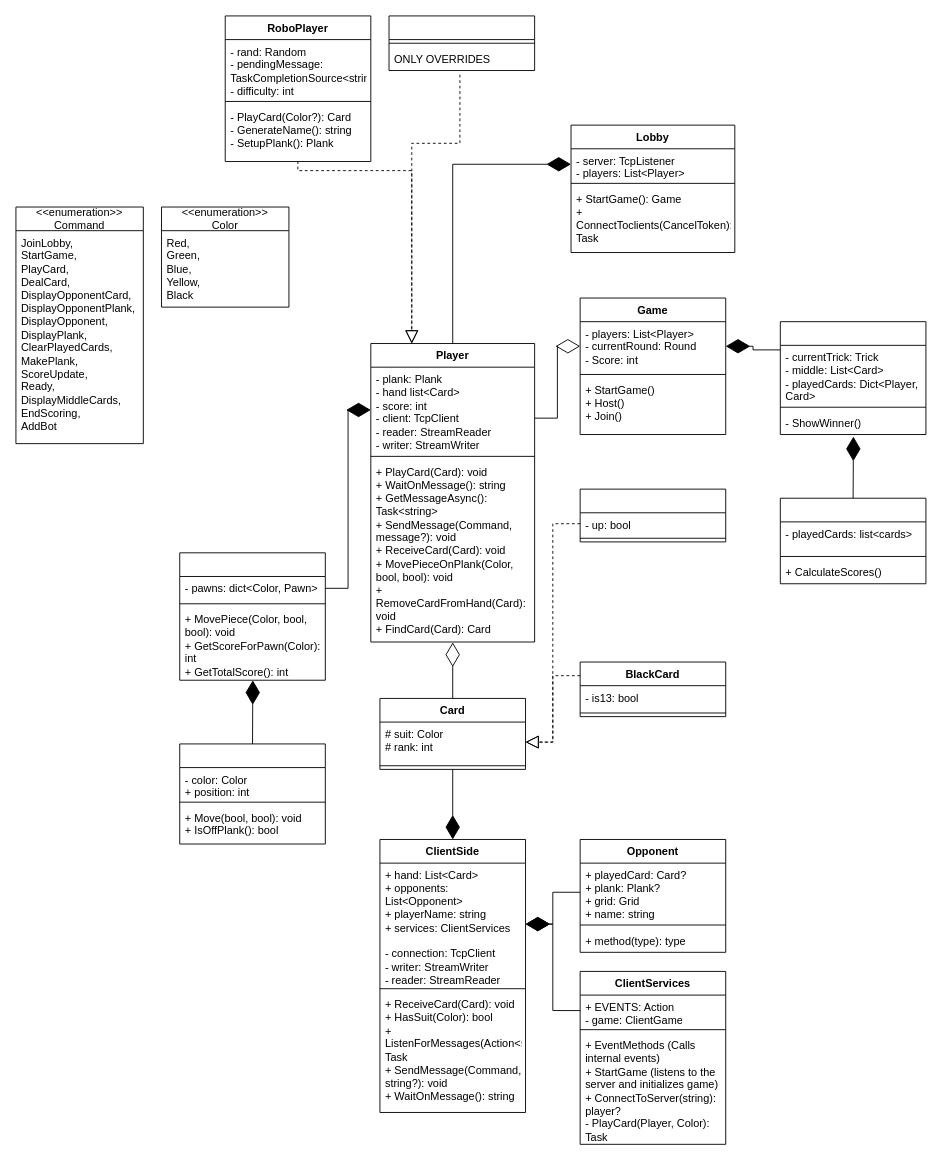
The diagram is 942 pixels wide and 1163 high, and some of its shapes have lost their labels. The box of each missing label's shape, as (x1, y1, x2, y2) in pixels:
Classname: (179, 743, 325, 844)
DoubleCard: (579, 488, 726, 542)
PirateKing: (388, 15, 535, 71)
Plank: (179, 552, 325, 680)
Round: (779, 321, 926, 435)
Trick: (779, 497, 926, 584)
